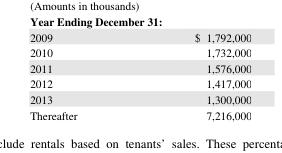table: (29, 28, 250, 121)
table column: (135, 28, 250, 121), (29, 28, 135, 121)
table row: (29, 28, 250, 44), (29, 59, 250, 75), (29, 90, 250, 106), (29, 44, 250, 59), (29, 75, 250, 90), (29, 106, 250, 121)
